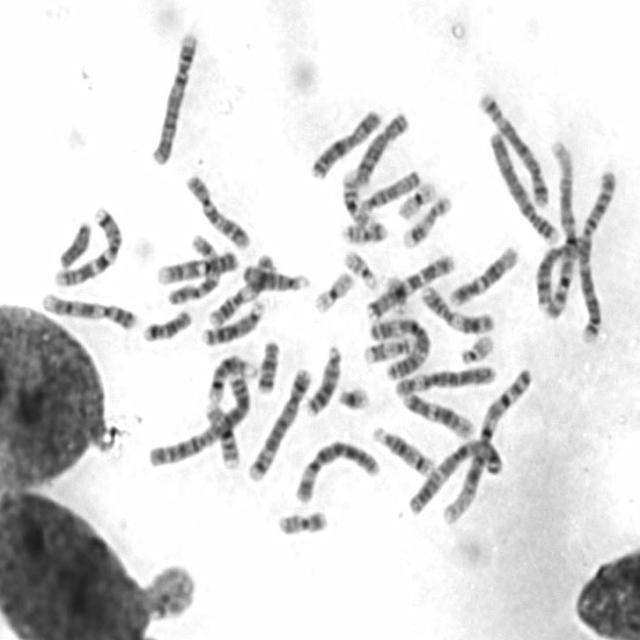A1: (440, 366, 534, 528), (543, 136, 578, 320)
A2: (147, 370, 251, 469), (576, 169, 617, 344)
A3: (409, 437, 507, 517), (367, 316, 432, 379)
B4: (488, 132, 560, 246), (150, 31, 200, 167)
B5: (475, 90, 552, 207), (243, 368, 312, 486)
C10: (184, 173, 253, 251), (165, 232, 221, 310)
C11: (208, 250, 274, 330), (418, 284, 496, 334)
C12: (447, 242, 519, 308), (401, 391, 478, 438)
C6: (293, 438, 382, 505), (394, 362, 500, 398)
C7: (363, 252, 458, 323), (52, 204, 125, 289)
C8: (354, 110, 409, 186), (535, 244, 589, 310)
C9: (40, 290, 142, 333), (156, 249, 240, 286)
D13: (200, 295, 269, 348), (306, 342, 342, 418)
D14: (371, 425, 436, 477), (205, 354, 260, 404)
D15: (360, 169, 422, 212), (241, 263, 312, 293)
E16: (203, 401, 241, 469), (342, 167, 380, 228)
E17: (398, 195, 452, 248), (360, 334, 416, 368)
E18: (142, 306, 191, 344), (255, 340, 281, 394)
F19: (312, 270, 356, 318), (395, 179, 441, 221)
F20: (277, 509, 330, 537), (338, 221, 388, 246)
G21: (379, 272, 408, 314), (336, 384, 374, 414)
G22: (342, 247, 378, 290), (458, 332, 496, 368)
X: (308, 108, 382, 182)
Y: (58, 222, 94, 270)
